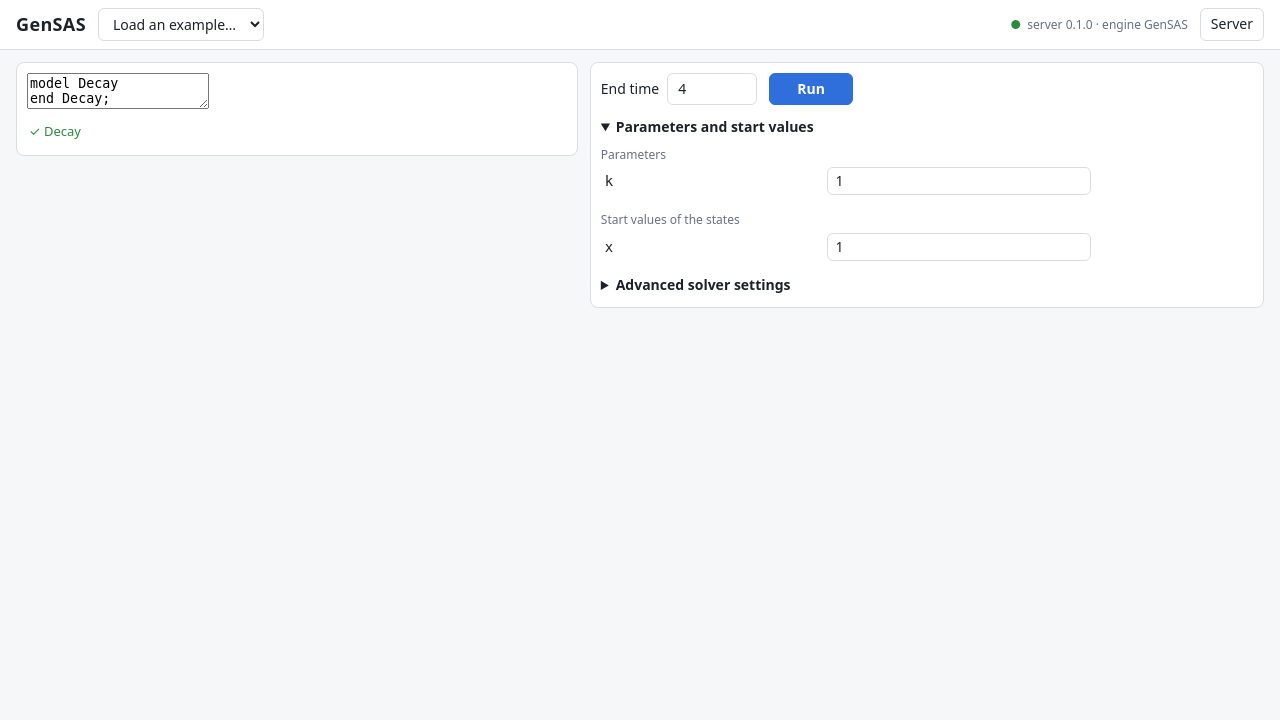
Test: App › toggles one plot per variable and variable selection
Click the button "Run" at {"x": 811, "y": 89}, box [769,73,853,105]
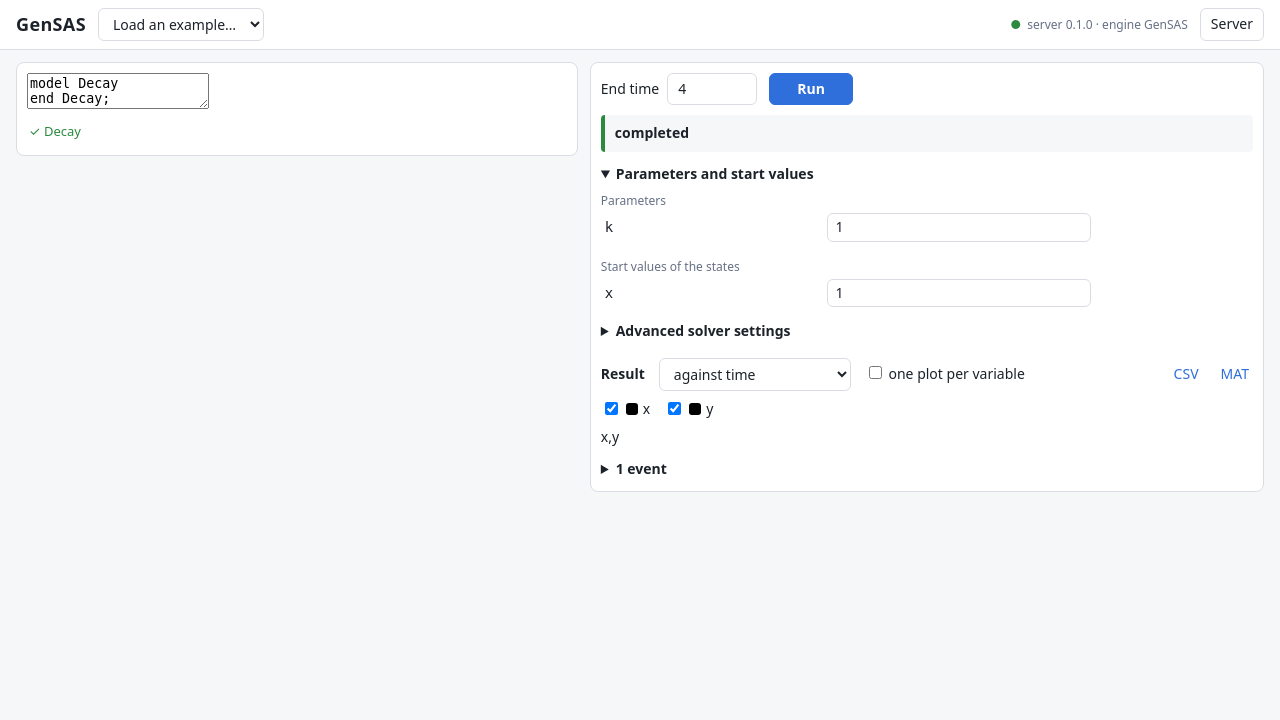
Click the checkbox labelled "y" at {"x": 675, "y": 409}, box [668,402,681,415]
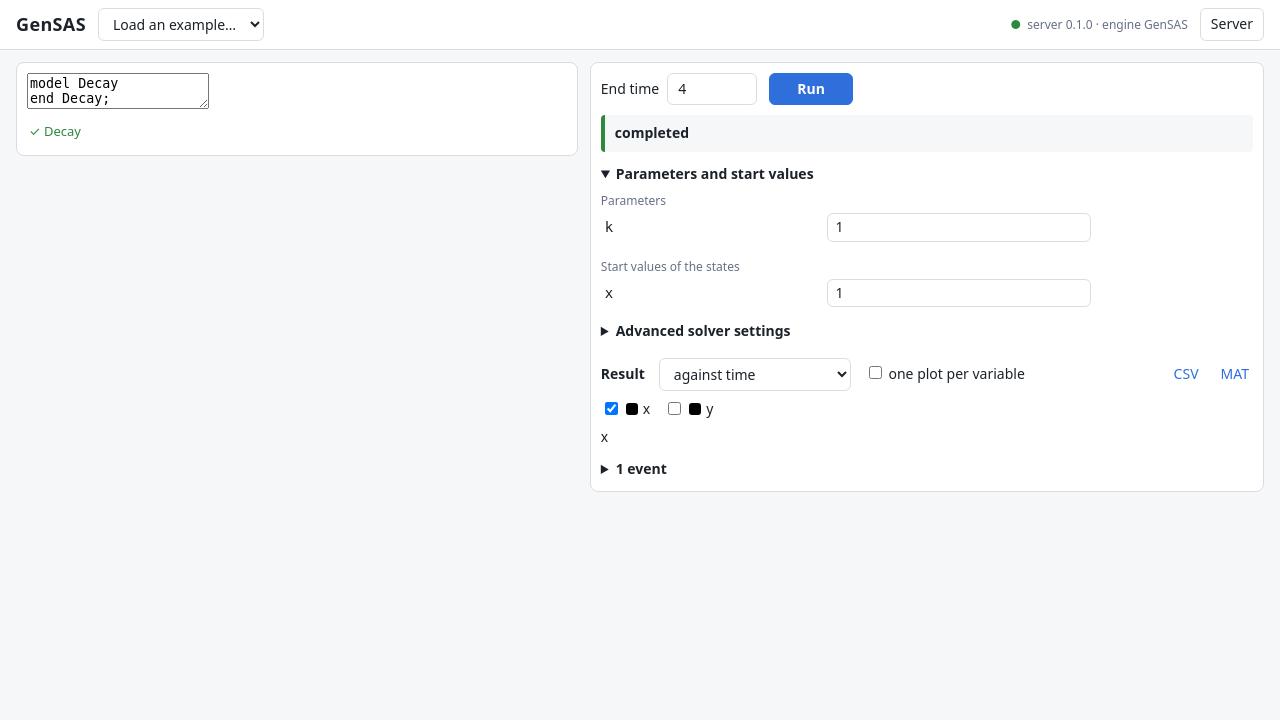
Expected: the text with test id "plot" reads "x", [601,427,608,446]
Click the checkbox labelled "one plot per variable" at {"x": 875, "y": 373}, box [869,366,882,379]
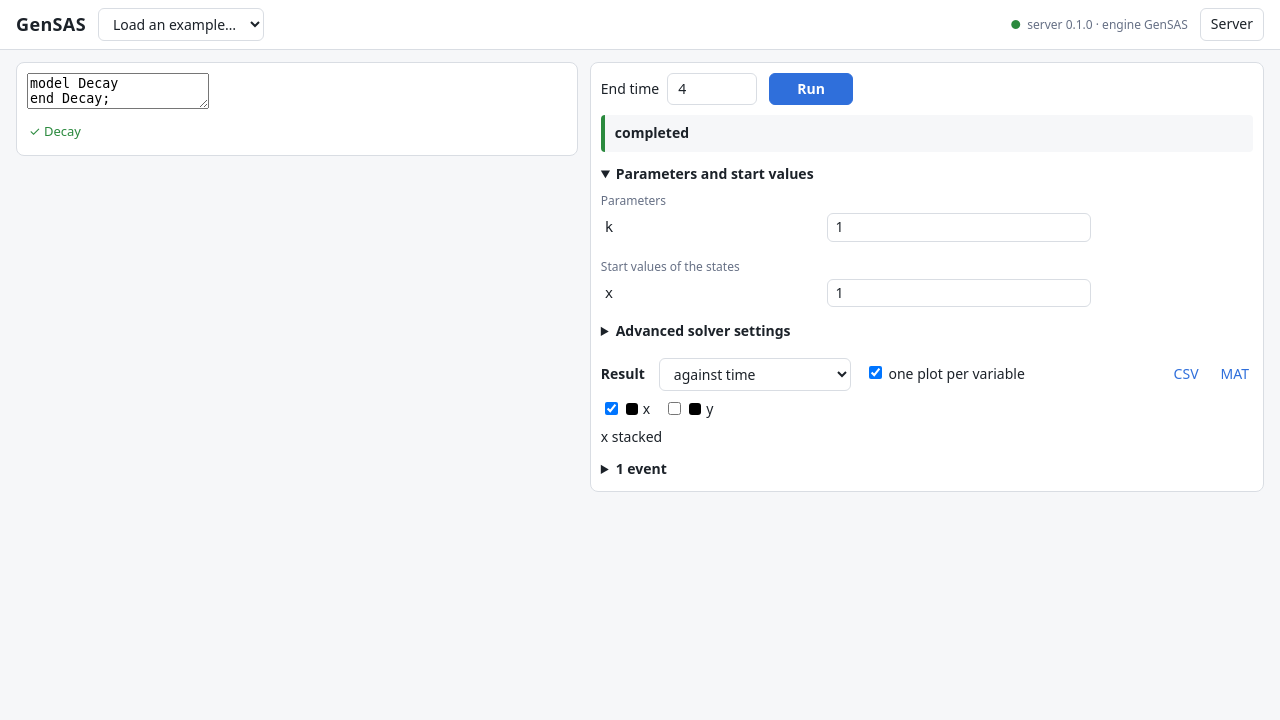
Expected: the text with test id "plot" shows "stacked", [608,427,662,446]
